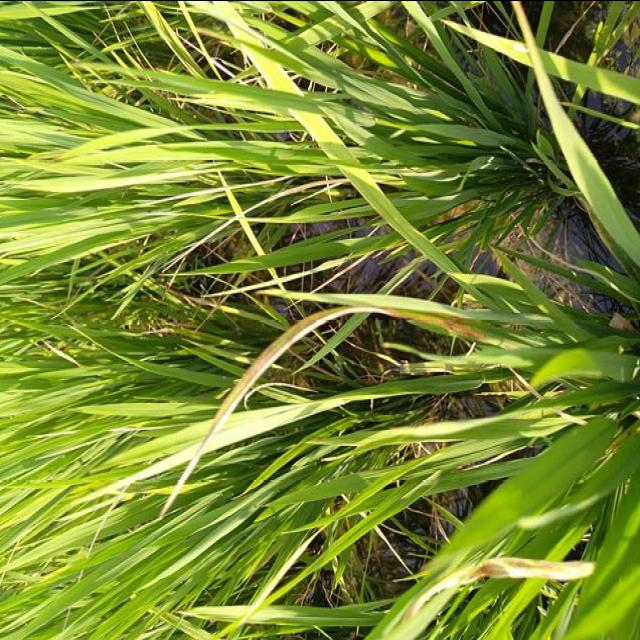Leaf Blight: (161, 305, 490, 516)
